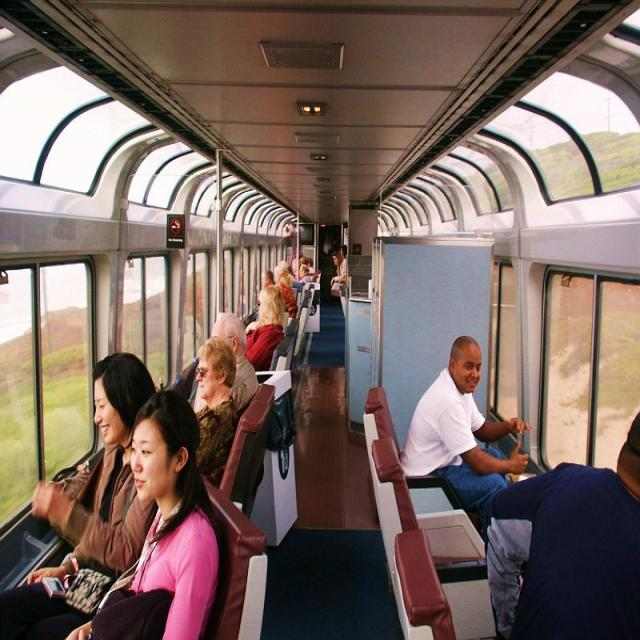body: (7, 384, 224, 639), (0, 349, 160, 640), (487, 409, 640, 640), (399, 333, 533, 535), (190, 309, 262, 416), (190, 336, 240, 489), (255, 250, 321, 316), (244, 282, 286, 372), (328, 241, 353, 322), (282, 218, 303, 277)
